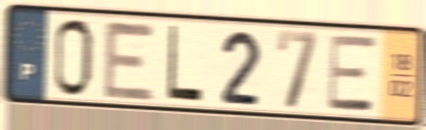0: (52, 16, 98, 99)
2: (216, 24, 268, 109)
7: (274, 27, 321, 112)
E: (101, 16, 159, 104), (326, 34, 378, 114)
L: (165, 22, 205, 105)
